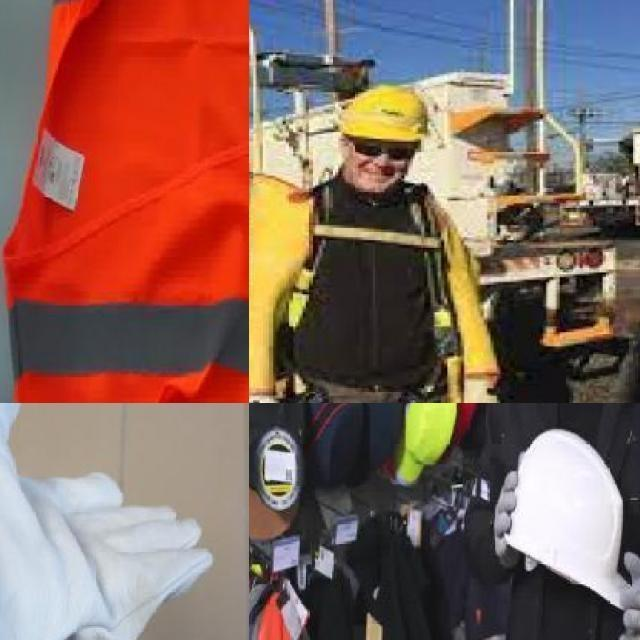apron: (0, 403, 219, 640), (492, 448, 520, 566), (613, 547, 640, 640), (462, 368, 506, 403)
